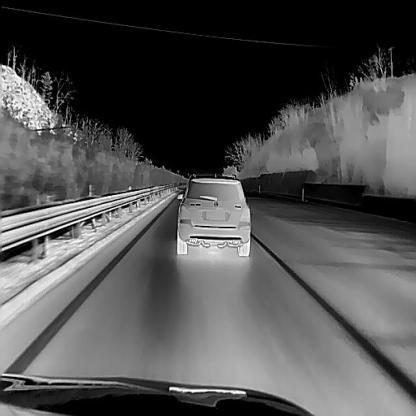car: (176, 172, 251, 255)
